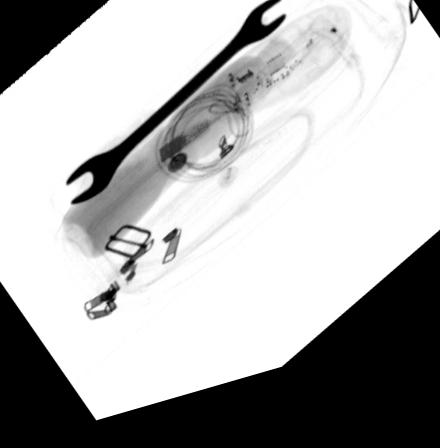Wrench: (62, 10, 287, 209)
